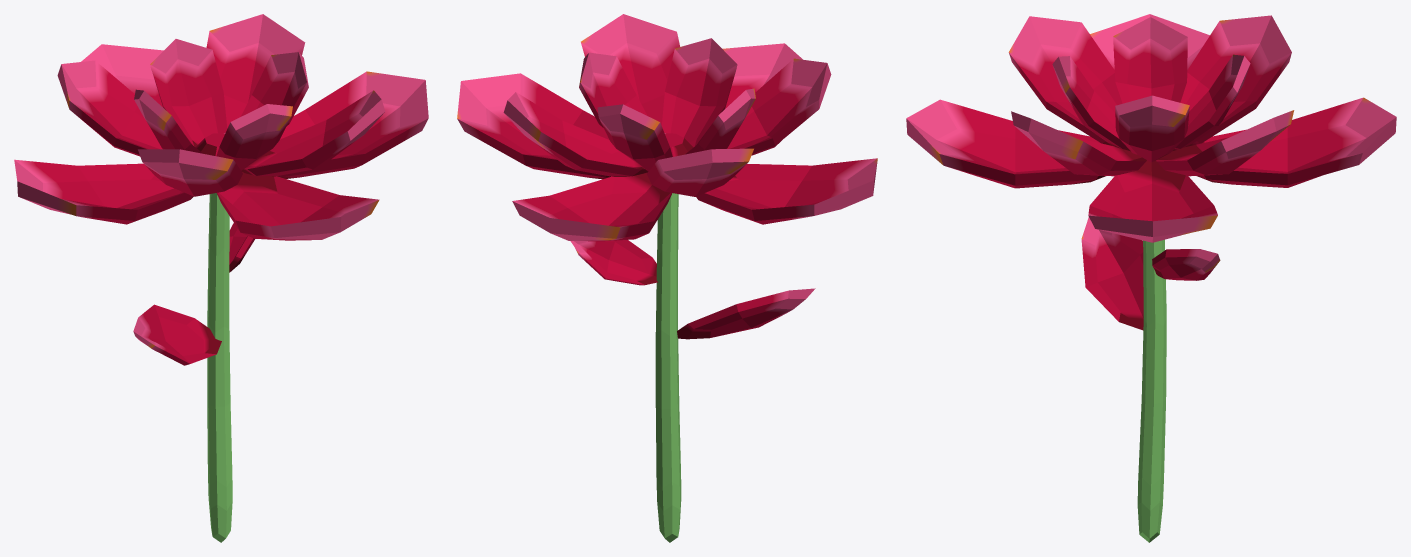
The model's file is Flower_6.fbx.
3 views of the same model, side by side, from view 1: azimuth 30°, elevation 25°; view 2: azimuth 150°, elevation 25°; view 3: azimuth 270°, elevation 25° (orthographic). The views are drawn at different scales.
Parts seen in each view (by area): view 1: Flower_6; view 2: Flower_6; view 3: Flower_6.
Part boxes in pixels (x1,y1,x2,y2): Flower_6: (14,14,428,542); Flower_6: (457,14,877,542); Flower_6: (906,14,1396,542).
Bounding box in the file's own units: 36.92 × 40.48 × 36.92.
